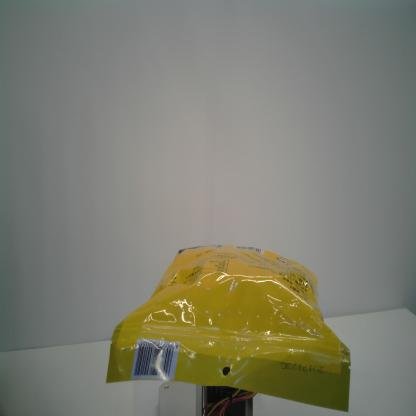Dried Food: (105, 244, 352, 414)
